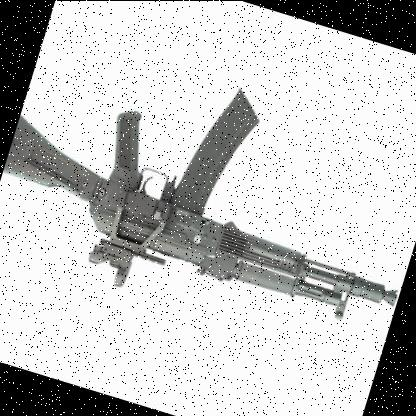rifle: (0, 45, 416, 387)
